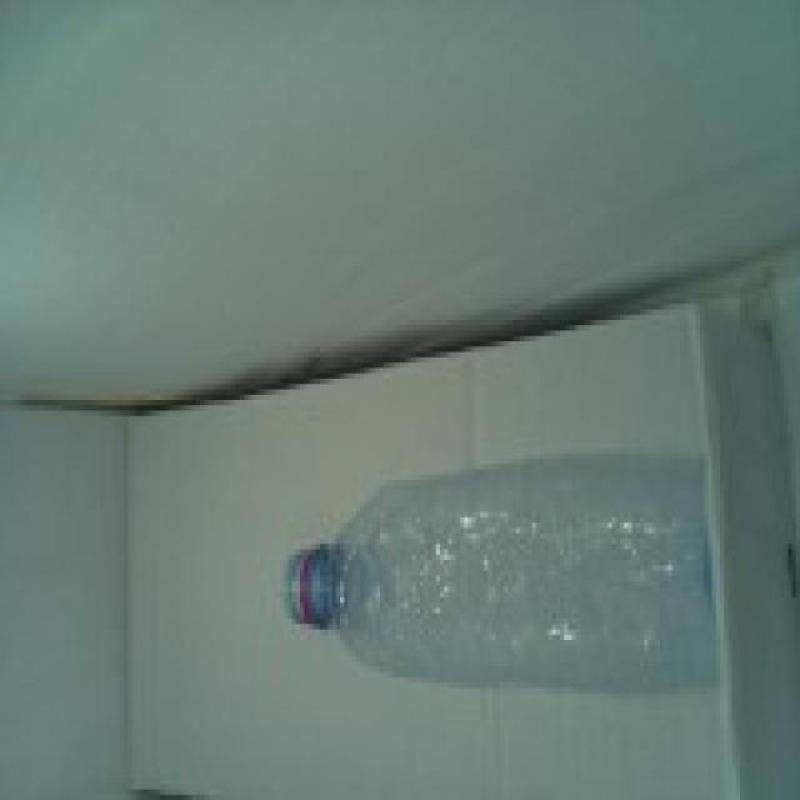botella: (286, 454, 719, 698)
